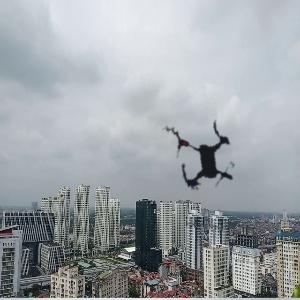drone: (136, 85, 284, 233)
